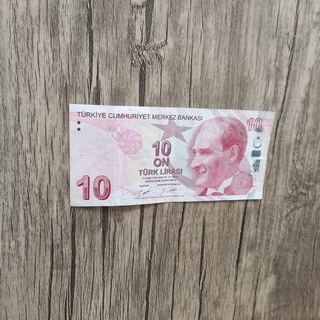10TLFront: (67, 102, 276, 208)
